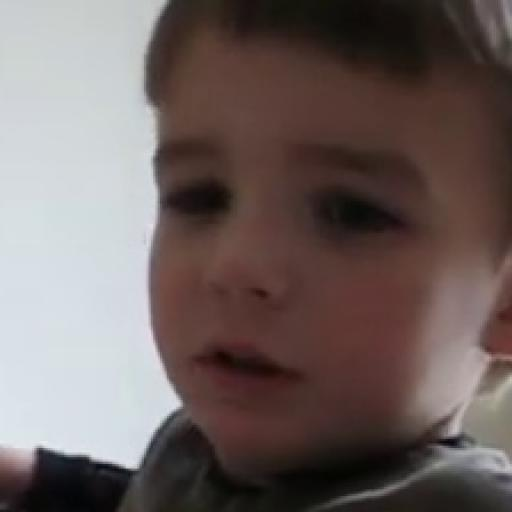Autism: (119, 25, 510, 512)
